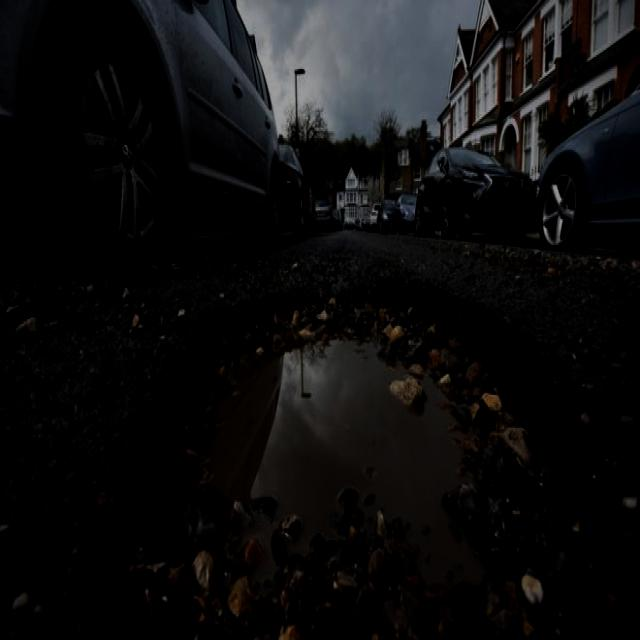Pothole: (140, 266, 586, 640)
